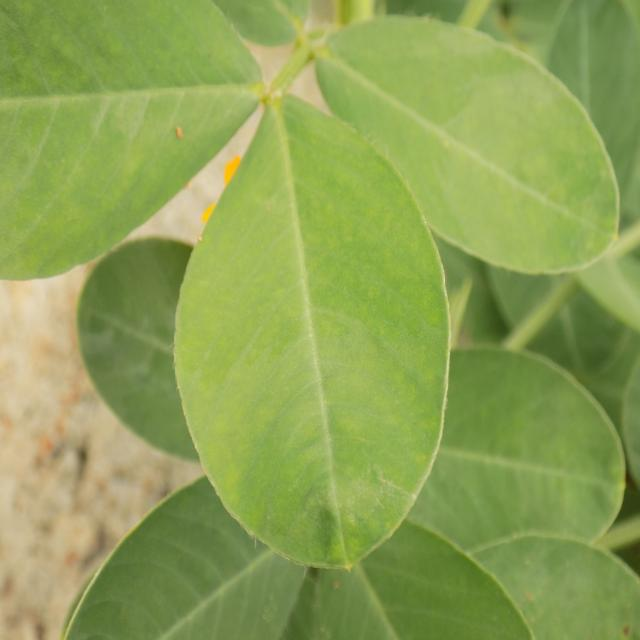Ground nut_healthy: (174, 95, 448, 565), (312, 17, 621, 275), (363, 335, 621, 580), (79, 234, 325, 465)
